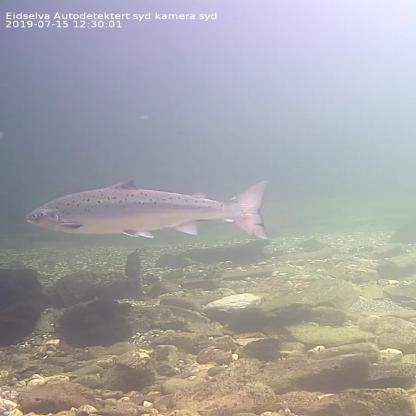salmon: (22, 176, 275, 243)
